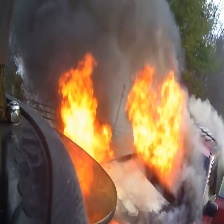fire: (127, 62, 186, 189), (57, 50, 116, 165)
